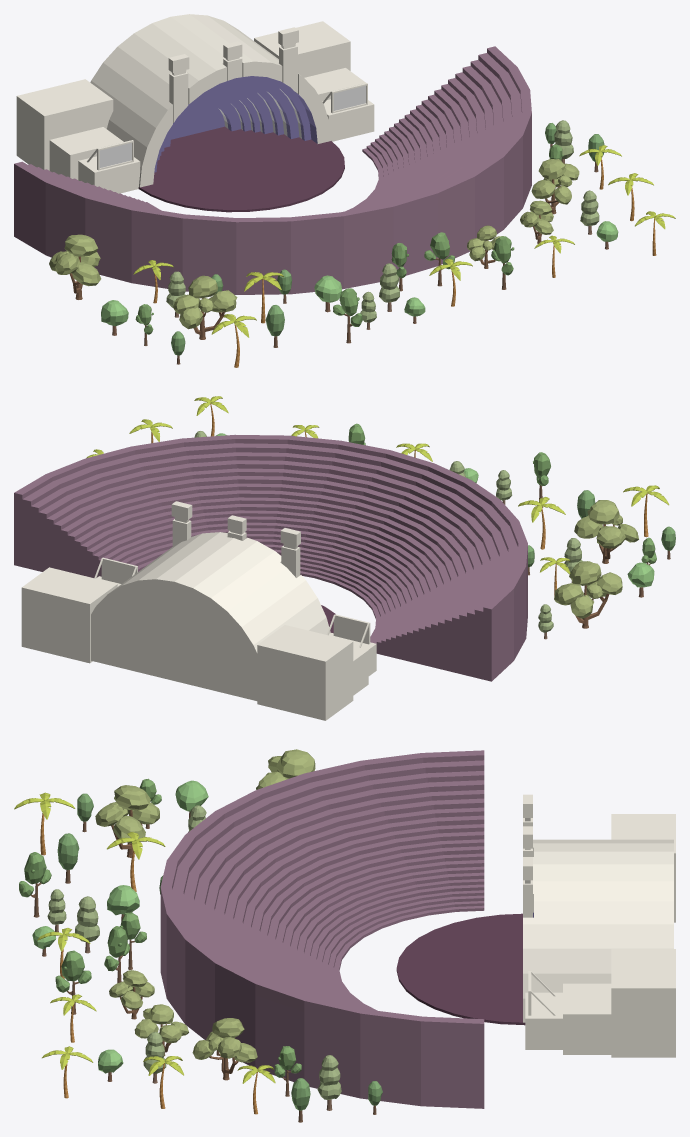
File: Milestone.fbx
3 renders of one model, top to bottom at view 1: azimuth 30°, elevation 25°; view 2: azimuth 150°, elevation 25°; view 3: azimuth 270°, elevation 25°, orthographic. The views are drawn at different scales.
Parts seen in each view (by area): view 1: Cylinder.059, Cylinder.023, Cube.081, Cylinder.022, Cube.080, Tree_stem_01.194, Tree_stem_01.192, Tree_stem_01.199, Tree_stem_01.196, Tree_stem_01.171, Tree_stem_01.166, Tree_stem_01.198 (+7 smaller); view 2: Cylinder.059, Cylinder.023, Cube.081, Tree_stem_01.192, Cube.080, Tree_stem_01.194, Tree_stem_01.181, Cylinder.031, Cylinder.028, Tree_stem_01.166; view 3: Cylinder.059, Cylinder.023, Cube.081, Cylinder.022, Tree_stem_01.194, Tree_stem_01.199, Tree_stem_01.196, Tree_stem_01.192, Cube.080, Tree_stem_01.171, Tree_stem_01.166, Tree_stem_01.066 (+13 smaller).
Part boxes in pixels (x1=…): Cylinder.059: x1=14, y1=46, x2=531, y2=294; Cylinder.023: x1=90, y1=14, x2=330, y2=187; Cube.081: x1=16, y1=21, x2=374, y2=193; Cylinder.022: x1=138, y1=126, x2=344, y2=212; Cube.080: x1=168, y1=27, x2=298, y2=122; Tree_stem_01.194: x1=173, y1=275, x2=237, y2=339; Tree_stem_01.192: x1=49, y1=234, x2=101, y2=299; Tree_stem_01.199: x1=531, y1=159, x2=579, y2=214; Tree_stem_01.196: x1=520, y1=200, x2=553, y2=243; Tree_stem_01.171: x1=467, y1=225, x2=503, y2=268; Tree_stem_01.166: x1=333, y1=288, x2=362, y2=343; Tree_stem_01.198: x1=379, y1=263, x2=399, y2=311; Cylinder.059: x1=14, y1=434, x2=527, y2=681; Cylinder.023: x1=91, y1=532, x2=330, y2=700; Cube.081: x1=21, y1=557, x2=376, y2=720; Tree_stem_01.192: x1=554, y1=561, x2=622, y2=628; Cube.080: x1=171, y1=501, x2=300, y2=577; Tree_stem_01.194: x1=574, y1=500, x2=638, y2=563; Tree_stem_01.181: x1=627, y1=562, x2=654, y2=597; Cylinder.031: x1=623, y1=485, x2=669, y2=537; Cylinder.028: x1=518, y1=497, x2=565, y2=549; Tree_stem_01.166: x1=533, y1=452, x2=550, y2=507; Cylinder.059: x1=160, y1=750, x2=484, y2=1108; Cylinder.023: x1=523, y1=839, x2=673, y2=1022; Cube.081: x1=525, y1=814, x2=675, y2=1057; Cylinder.022: x1=396, y1=913, x2=525, y2=1025; Tree_stem_01.194: x1=95, y1=785, x2=159, y2=857; Tree_stem_01.199: x1=192, y1=1018, x2=257, y2=1080; Tree_stem_01.196: x1=134, y1=1004, x2=188, y2=1056; Tree_stem_01.192: x1=256, y1=749, x2=315, y2=789; Cube.080: x1=523, y1=794, x2=532, y2=917; Tree_stem_01.171: x1=109, y1=970, x2=154, y2=1019; Tree_stem_01.166: x1=19, y1=852, x2=51, y2=917; Tree_stem_01.066: x1=55, y1=950, x2=91, y2=1014.
Size of the model in its own units: 11074 by 2298 by 9818.
Materials: 19 (3 with a texture image).
